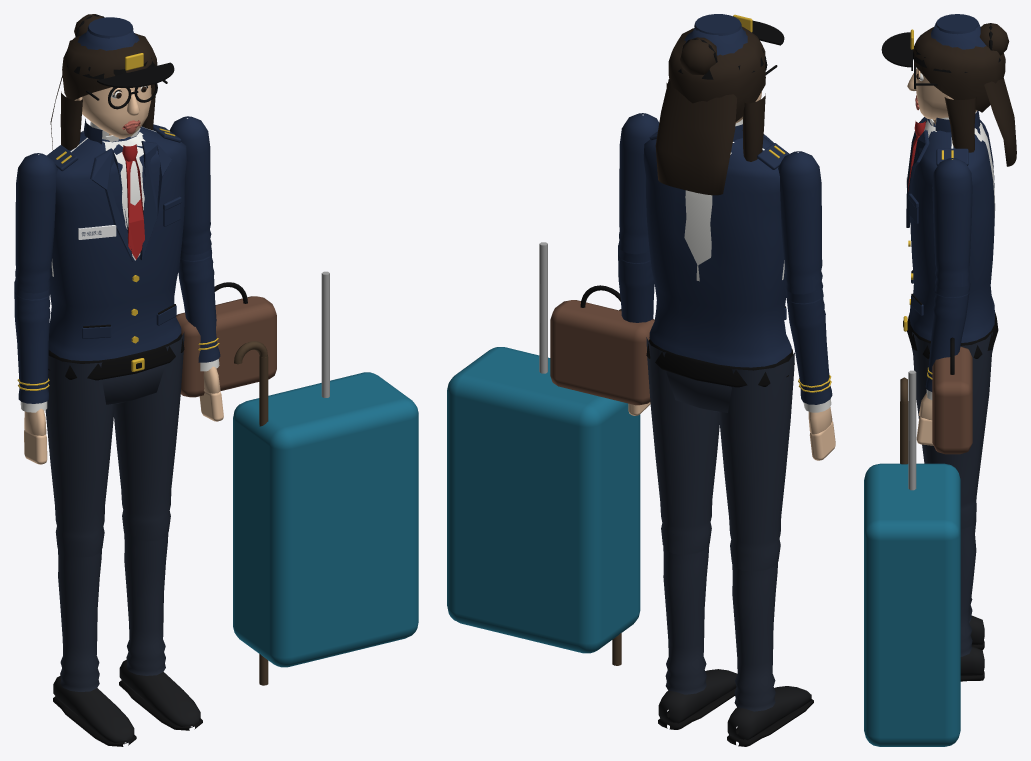
The model's file is human_lo.glb.
3 views of the same model, side by side, from view 1: azimuth 30°, elevation 25°; view 2: azimuth 150°, elevation 25°; view 3: azimuth 270°, elevation 25° (orthographic). The views are drawn at different scales.
Parts seen in each view (by area): view 1: CaseShell, TorsoParts_Uniform, LegParts_Trousers (×2), ShinParts_Trousers (×2), ArmParts_Uniform (×2), ForearmParts_Uniform (×2), BagBody, ShinParts_Shoes (×2), HairLongTop, HeadParts_Skin, ForearmParts_Skin (×2), BodyParts_Black (+9 smaller); view 2: CaseShell, TorsoParts_Uniform, LegParts_Trousers (×2), ShinParts_Trousers (×2), ArmParts_Uniform (×2), BagBody, HairBack, ForearmParts_Uniform (×2), ShinParts_Shoes (×2), HairLongTop, BodyParts_Black, TorsoParts_Shirt (+8 smaller); view 3: CaseShell, TorsoParts_Uniform, ArmParts_Uniform, LegParts_Trousers, HairLongTop, BagBody, ForearmParts_Uniform, ShinParts_Trousers, HairBack, HairSide, HeadParts_Skin, CaseHandle (+10 smaller).
Boxes of the visible parts, x1,y1,x2,y2 form: CaseShell: [233, 372, 418, 667]; TorsoParts_Uniform: [47, 119, 187, 360]; LegParts_Trousers (×2): [45, 332, 184, 557]; ShinParts_Trousers (×2): [57, 532, 168, 691]; ArmParts_Uniform (×2): [14, 116, 211, 300]; ForearmParts_Uniform (×2): [14, 247, 220, 403]; BagBody: [176, 296, 276, 397]; ShinParts_Shoes (×2): [53, 659, 200, 744]; HairLongTop: [62, 34, 157, 100]; HeadParts_Skin: [74, 85, 151, 137]; ForearmParts_Skin (×2): [24, 366, 223, 464]; BodyParts_Black: [48, 333, 184, 380]; CaseShell: [447, 347, 640, 653]; TorsoParts_Uniform: [643, 124, 791, 367]; LegParts_Trousers (×2): [646, 337, 794, 571]; ShinParts_Trousers (×2): [663, 534, 777, 711]; ArmParts_Uniform (×2): [618, 113, 822, 304]; BagBody: [550, 300, 654, 405]; HairBack: [655, 79, 736, 195]; ForearmParts_Uniform (×2): [618, 245, 832, 404]; ShinParts_Shoes (×2): [658, 669, 811, 742]; HairLongTop: [668, 26, 765, 121]; BodyParts_Black: [646, 339, 794, 387]; TorsoParts_Shirt: [684, 119, 784, 281]; CaseShell: [864, 463, 960, 746]; TorsoParts_Uniform: [906, 110, 994, 342]; ArmParts_Uniform: [932, 158, 972, 297]; LegParts_Trousers: [912, 332, 992, 529]; HairLongTop: [913, 27, 1005, 112]; BagBody: [932, 346, 972, 454]; ForearmParts_Uniform: [925, 283, 970, 391]; ShinParts_Trousers: [960, 522, 976, 656]; HairBack: [984, 78, 1016, 166]; HairSide: [944, 97, 976, 152]; HeadParts_Skin: [907, 68, 977, 119]; CaseHandle: [908, 370, 916, 490].
Bounding box in the file's own units: 0.9893 × 1.76 × 0.38.
Materials: 20 (1 with a texture image).
